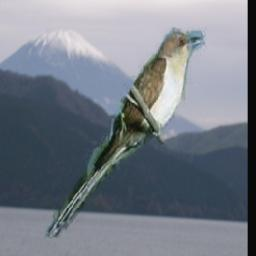Cuckoo: (45, 28, 208, 246)
